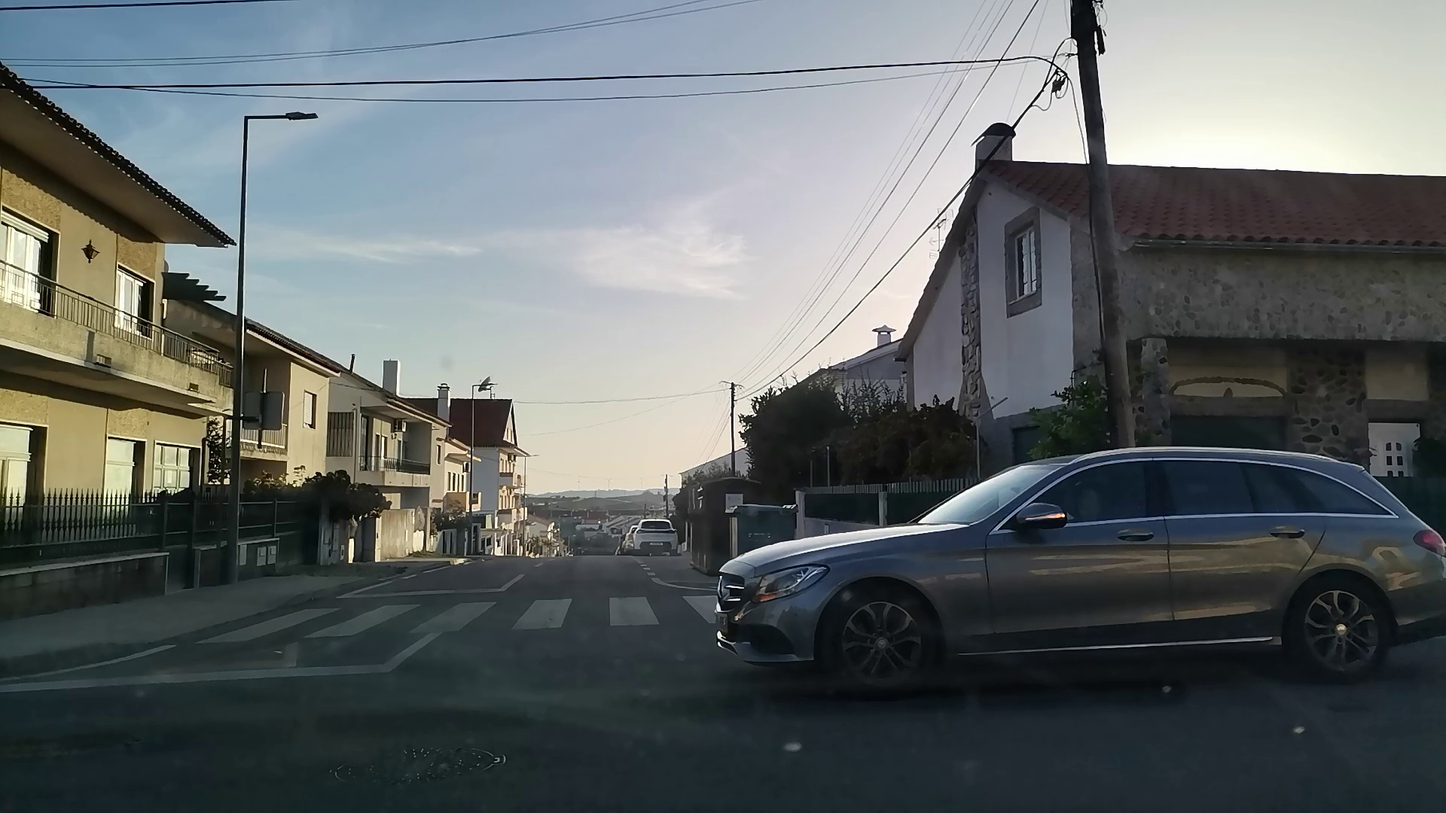Stairs: (205, 593, 745, 650)
